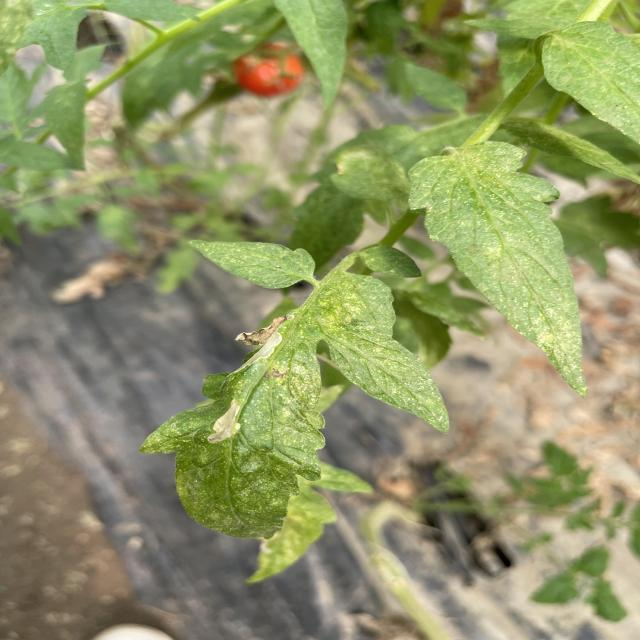Tuta absoluta: (236, 331, 286, 380), (206, 397, 247, 450)
